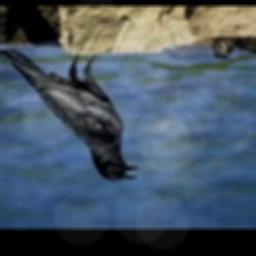Crow: (0, 48, 138, 181)
